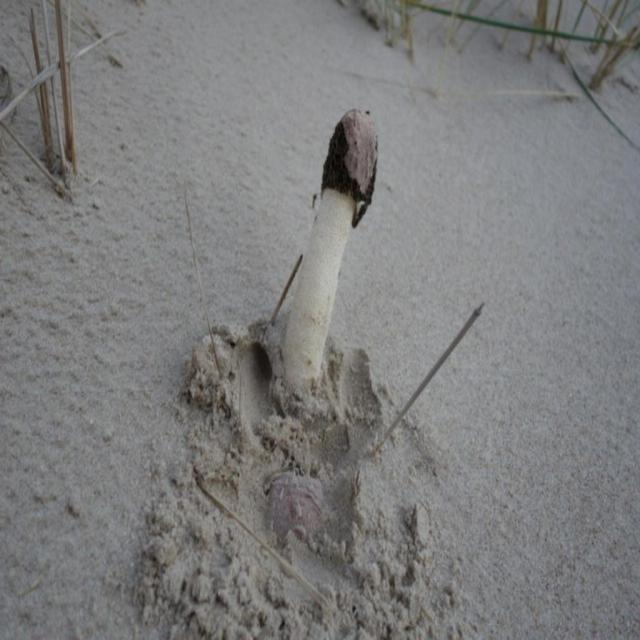Dictyophora indusiate: (279, 108, 377, 378)
